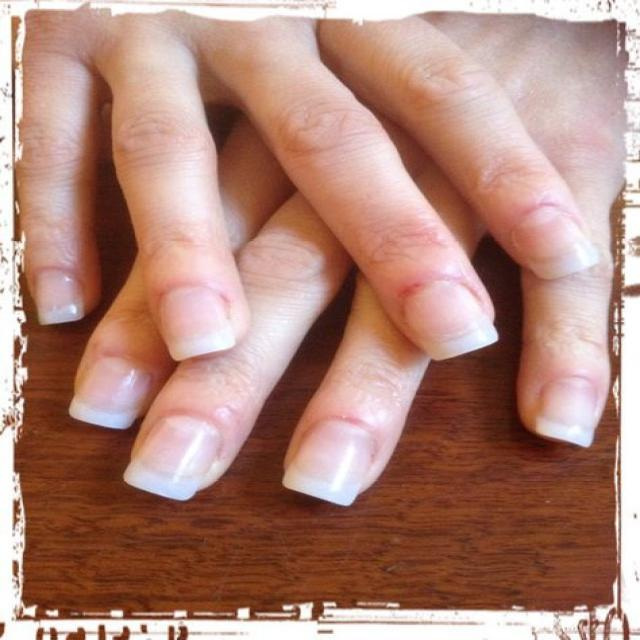Fingernail: (124, 416, 220, 500), (283, 419, 374, 506), (405, 282, 497, 359), (515, 208, 600, 279), (69, 357, 151, 429), (161, 287, 234, 360), (536, 379, 597, 446), (36, 271, 82, 324)
